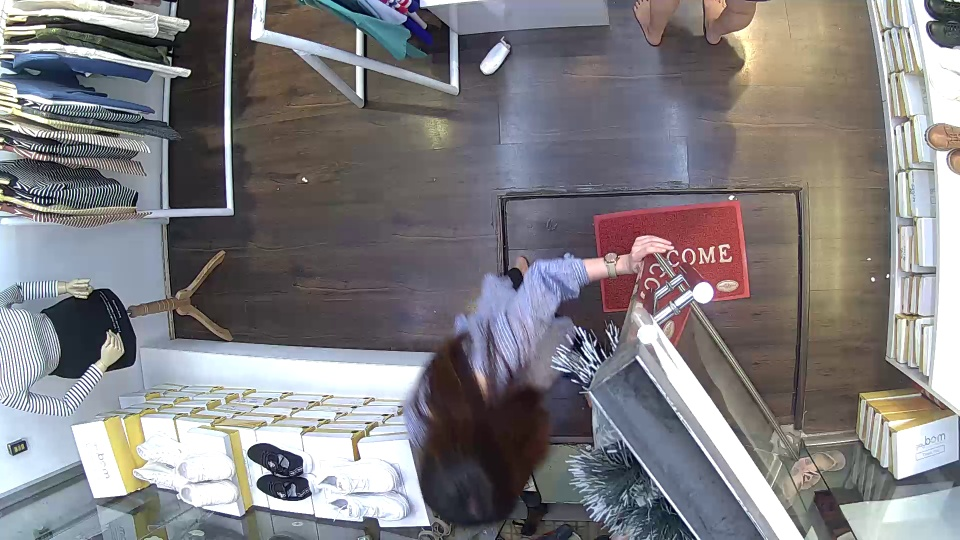topviewhead: (416, 417, 536, 523)
